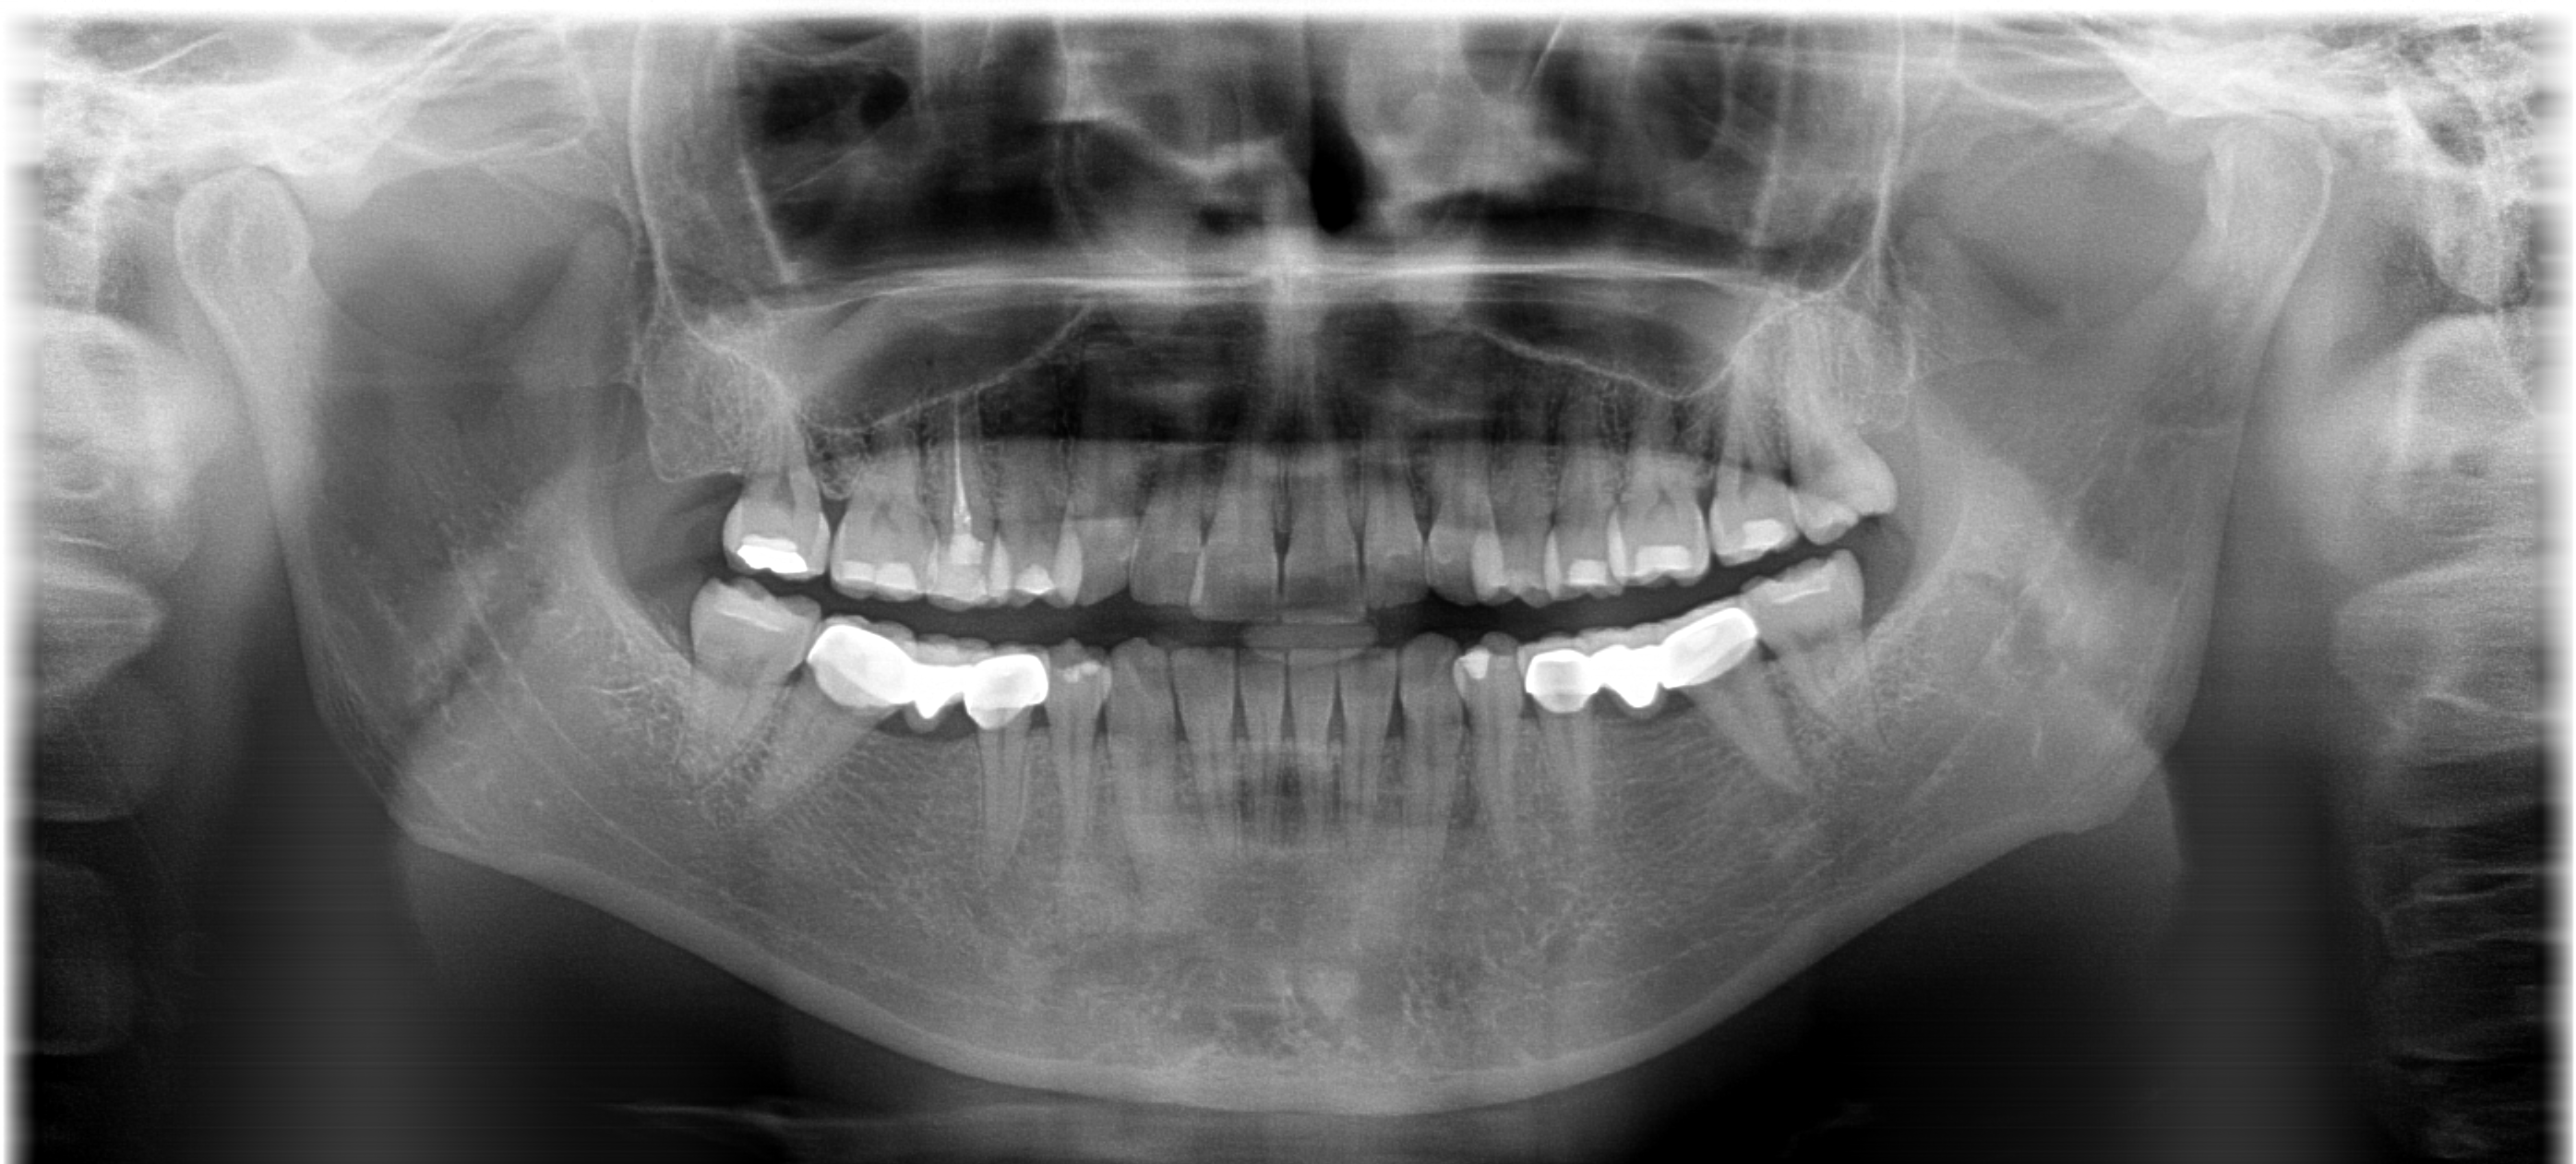apinamiento: (1025, 492, 1263, 628), (1408, 482, 1646, 618)
cordal: (1710, 531, 1925, 776), (632, 557, 848, 801), (1743, 337, 1958, 580), (667, 386, 882, 630)
tratamiento_conducto: (905, 381, 1042, 636)
